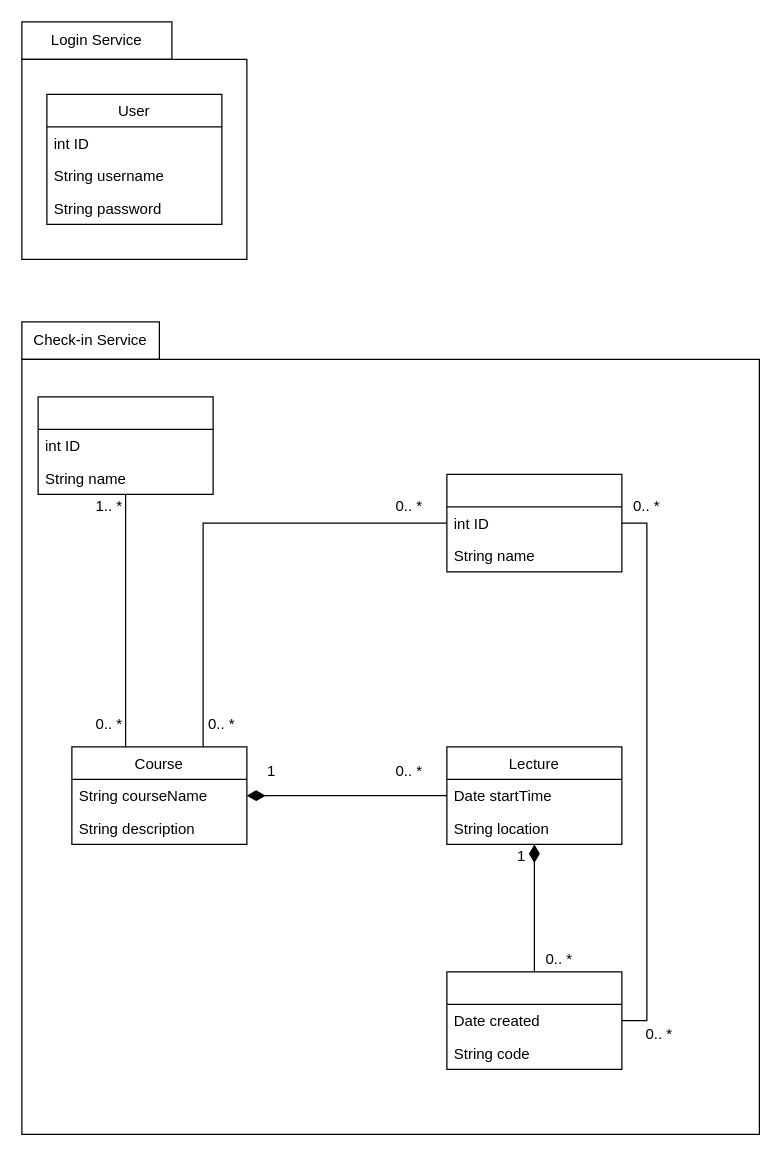
This 781x1156 diagram has some shape labels left out. The shapes that lost their labels are listed below. From the top down, each one's box as (x1, y1, x2, y2) in pixels, then its label:
(37, 396, 213, 494): Teacher
(446, 473, 622, 572): Student
(446, 971, 622, 1069): CheckIn
